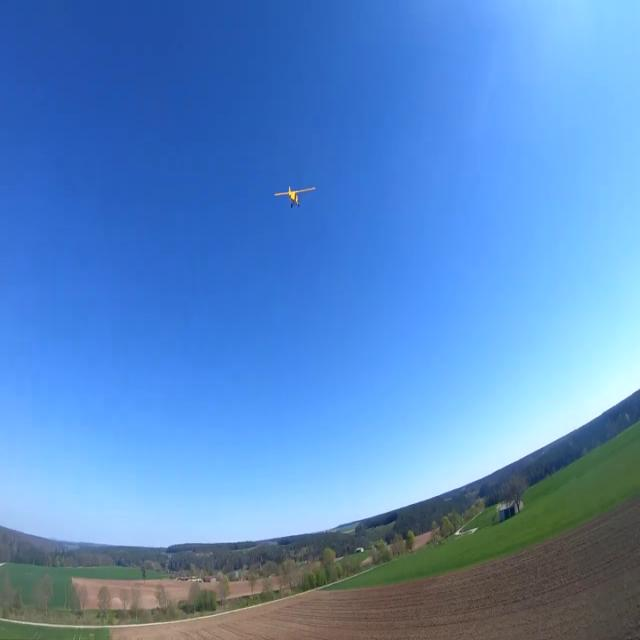iha: (273, 180, 319, 212)
